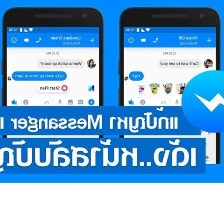phone: (118, 4, 224, 184), (0, 5, 104, 181)
